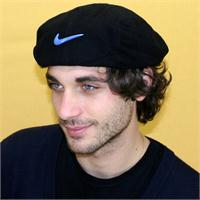hat: (34, 3, 170, 69)
